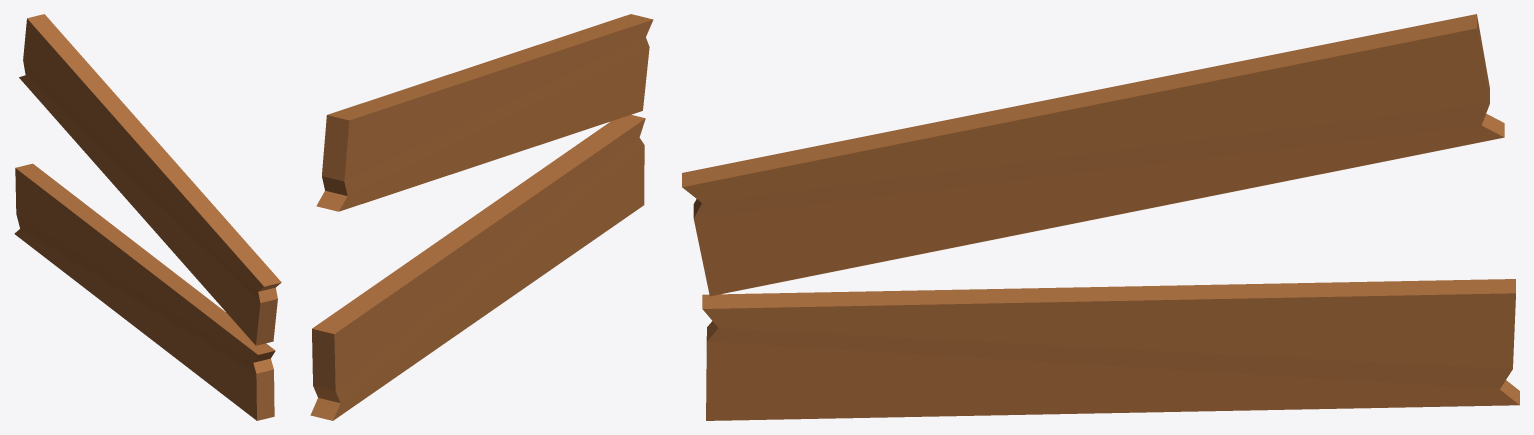
Rendered from MaderasPuertas.fbx.
3 views of the same model, side by side, from view 1: azimuth 30°, elevation 25°; view 2: azimuth 150°, elevation 25°; view 3: azimuth 270°, elevation 25° (orthographic). The views are drawn at different scales.
Parts seen in each view (by area): view 1: MaderasPuerta; view 2: MaderasPuerta; view 3: MaderasPuerta.
Part boxes in pixels (box(x1,y1,x2,y2)): MaderasPuerta: box(14, 14, 281, 420); MaderasPuerta: box(310, 14, 653, 420); MaderasPuerta: box(682, 14, 1519, 420).
Bounding box in the file's own units: 12.14 × 151 × 293.
